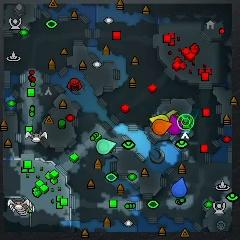Other: (177, 113, 195, 130)
p1: (171, 177, 188, 198)
p2: (96, 139, 117, 155)
p3: (167, 115, 183, 136)
p4: (148, 115, 170, 122)
p5: (152, 119, 172, 135)
x2: (165, 110, 178, 118)
